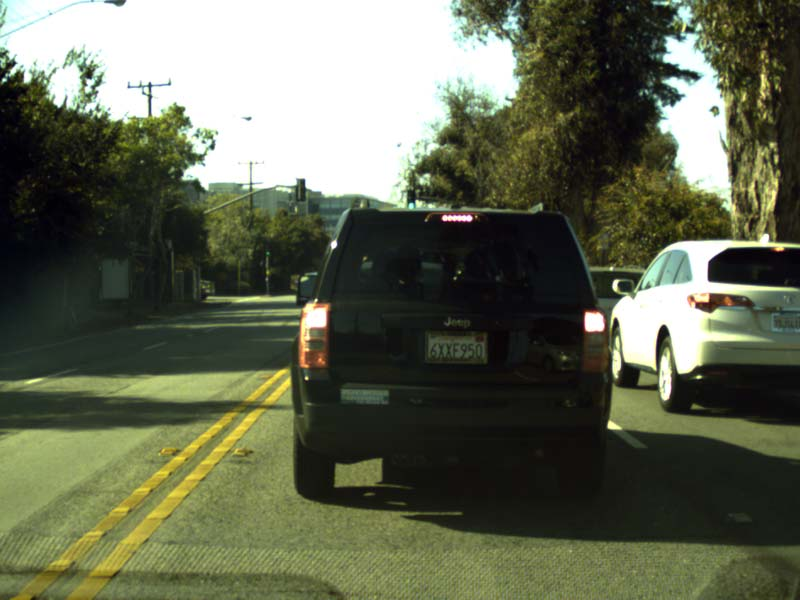Green: (406, 190, 415, 209), (265, 245, 270, 256)
